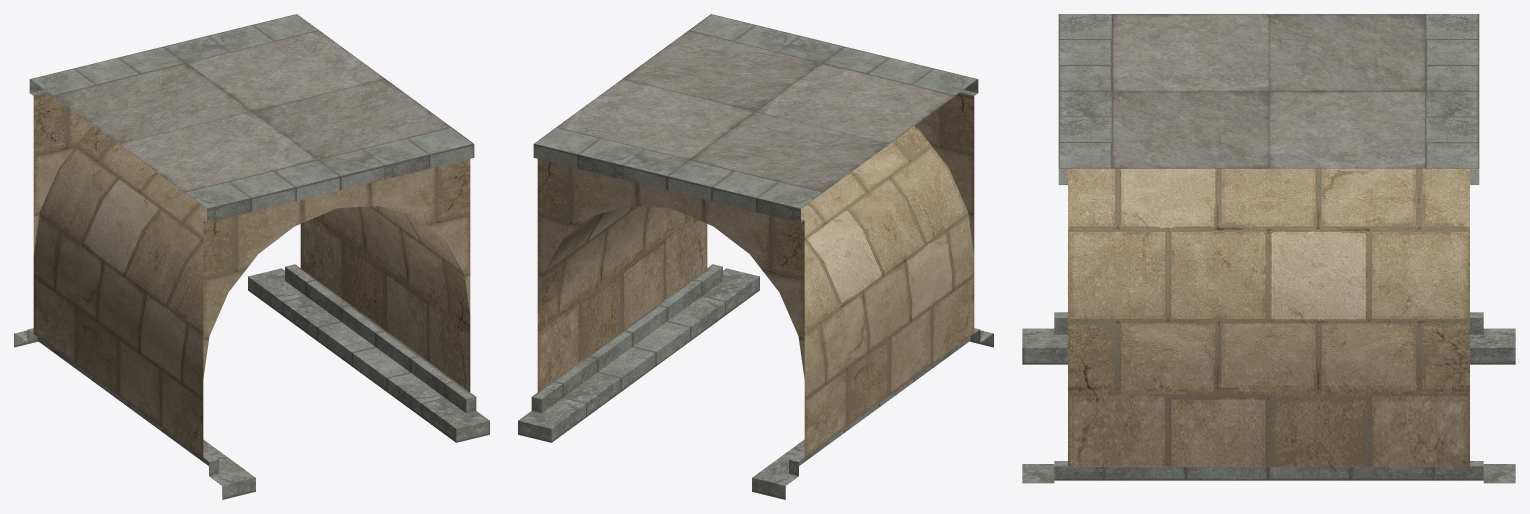
The model's file is arch_4x4.fbx.
3 renders of one model, left to right at view 1: azimuth 30°, elevation 25°; view 2: azimuth 150°, elevation 25°; view 3: azimuth 270°, elevation 25°, orthographic. The views are drawn at different scales.
Parts seen in each view (by area): view 1: arch_4x4; view 2: arch_4x4; view 3: arch_4x4.
Part boxes in pixels (bbox=[...]): arch_4x4: bbox=[14, 14, 489, 499]; arch_4x4: bbox=[518, 14, 993, 499]; arch_4x4: bbox=[1022, 14, 1515, 483].
Bounding box in the file's own units: 200 × 200 × 270.
